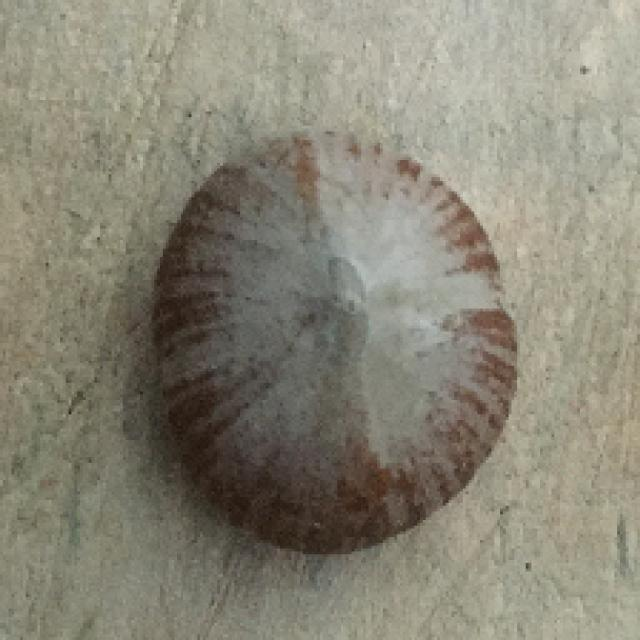QualityHazelnut: (155, 123, 524, 555)
